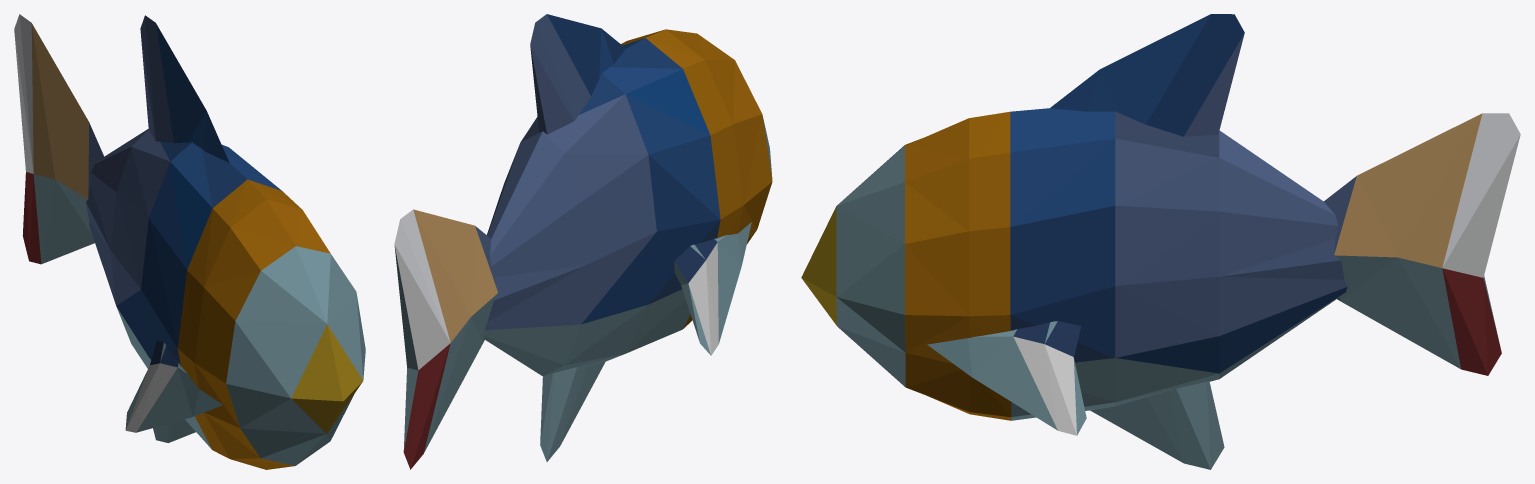
Rendered from Nippy_2.fbx.
3 views of the same model, side by side, from view 1: azimuth 30°, elevation 25°; view 2: azimuth 150°, elevation 25°; view 3: azimuth 270°, elevation 25° (orthographic). The views are drawn at different scales.
Parts seen in each view (by area): view 1: polySurface2; view 2: polySurface2; view 3: polySurface2.
Boxes of the visible parts, left/top/right/bottom form: polySurface2: left=14, top=14, right=365, bottom=469; polySurface2: left=394, top=14, right=772, bottom=469; polySurface2: left=801, top=14, right=1520, bottom=469.
Bounding box in the file's own units: 0.8991 × 1.88 × 2.69.
